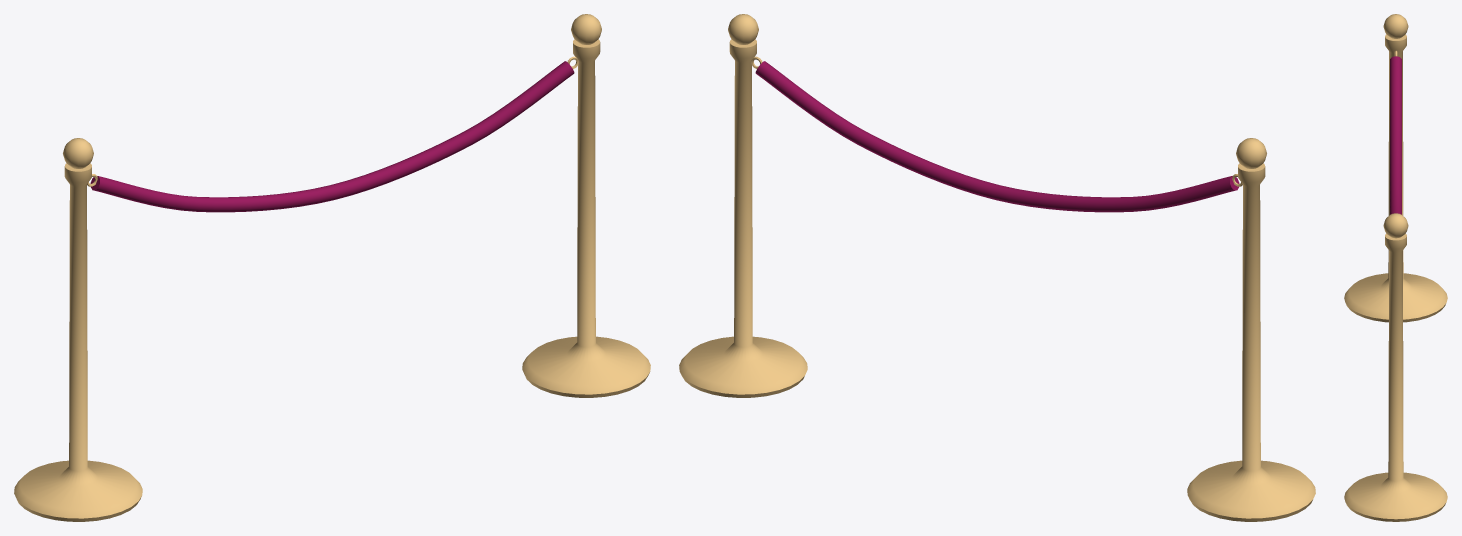
The model's file is KIT_Corda_VIP.glb.
3 renders of one model, left to right at view 1: azimuth 30°, elevation 25°; view 2: azimuth 150°, elevation 25°; view 3: azimuth 270°, elevation 25°, orthographic. The views are drawn at different scales.
Parts seen in each view (by area): view 1: KIT_Corda_VIP; view 2: KIT_Corda_VIP; view 3: KIT_Corda_VIP.
Part boxes in pixels (bbox=[...]): KIT_Corda_VIP: bbox=[14, 14, 650, 521]; KIT_Corda_VIP: bbox=[679, 14, 1315, 521]; KIT_Corda_VIP: bbox=[1344, 14, 1447, 521].
Bounding box in the file's own units: 1.83 × 1 × 0.33.
